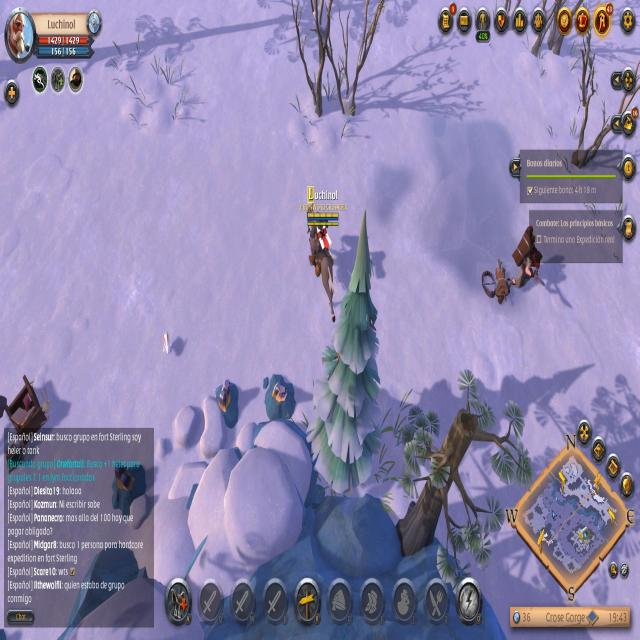piedra_cobre: (264, 374, 294, 419), (215, 380, 239, 428)
